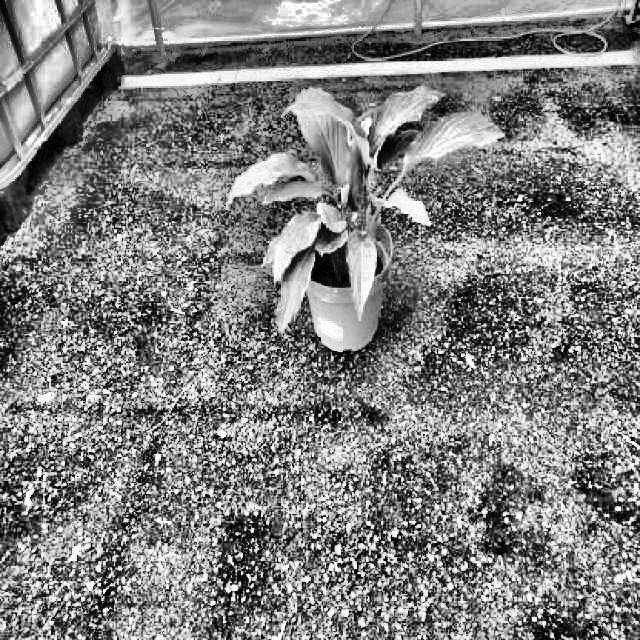plants: (224, 87, 503, 336)
